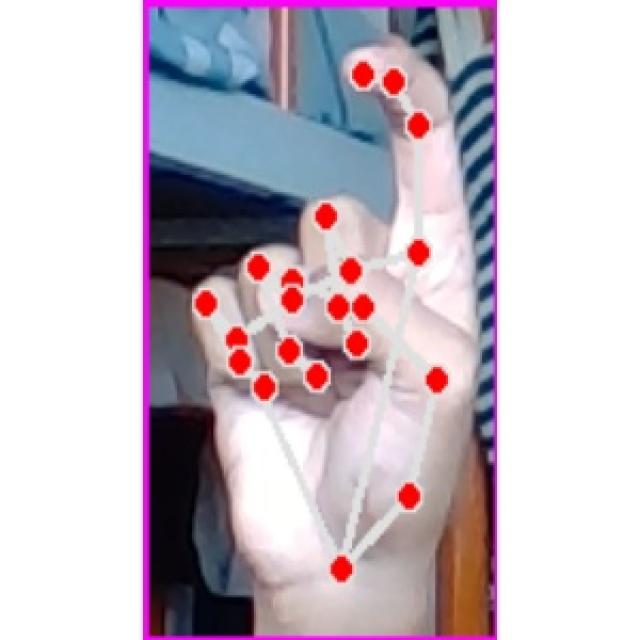X: (177, 29, 481, 595)
